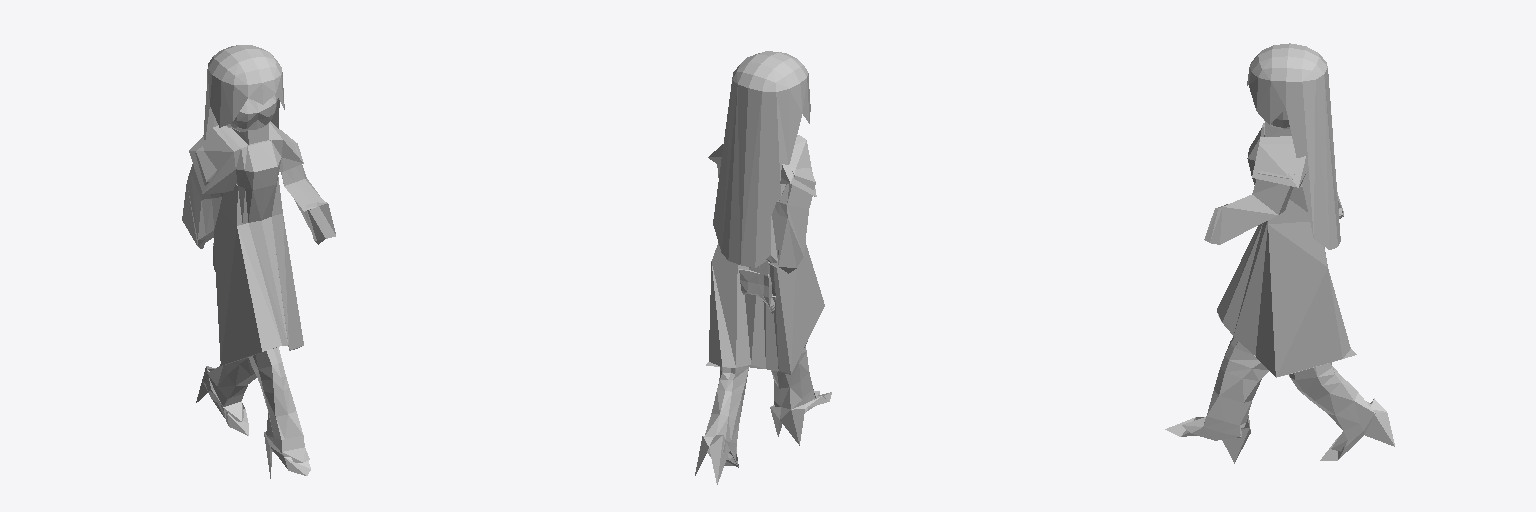
The picture shows the model from 3 angles: view 1: azimuth 30°, elevation 25°; view 2: azimuth 150°, elevation 25°; view 3: azimuth 270°, elevation 25°; orthographic projection.
Visible parts, largest first — view 1: 立方体_立方体.002; view 2: 立方体_立方体.002; view 3: 立方体_立方体.002.
Part boxes in pixels (bbox=[...]): 立方体_立方体.002: bbox=[182, 45, 335, 478]; 立方体_立方体.002: bbox=[695, 51, 831, 484]; 立方体_立方体.002: bbox=[1165, 43, 1394, 463].
Size of the model in its own units: 1.72 by 6.59 by 3.36.